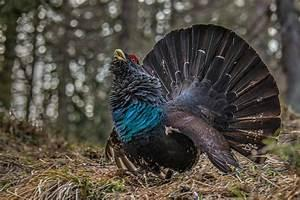hen: (103, 22, 281, 181)
